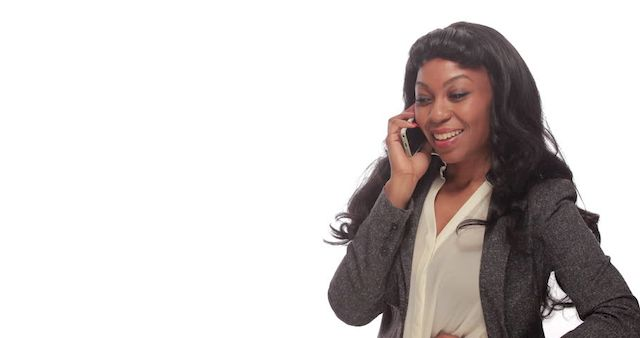phone: (393, 106, 427, 168)
talk: (385, 75, 480, 188)
